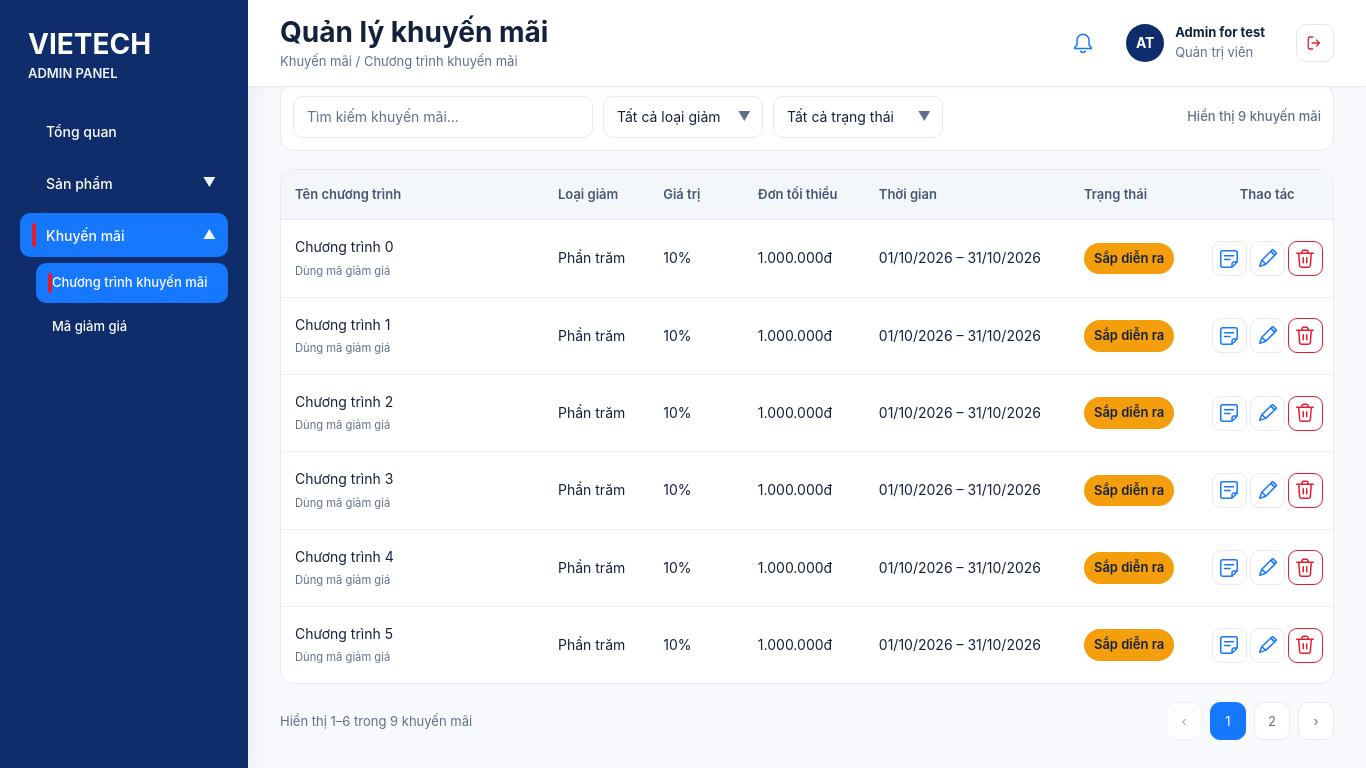
Test: pagination shows six records per page and search returns to first page
The image size is (1366, 768).
(page scrolled)
Expected: the text "Hiển thị 9 khuyến mãi" is shown, 1187,107 -> 1321,127
Click the button named "Trang sau" at [1316, 721], box 1298,702 -> 1334,740
(page scrolled)
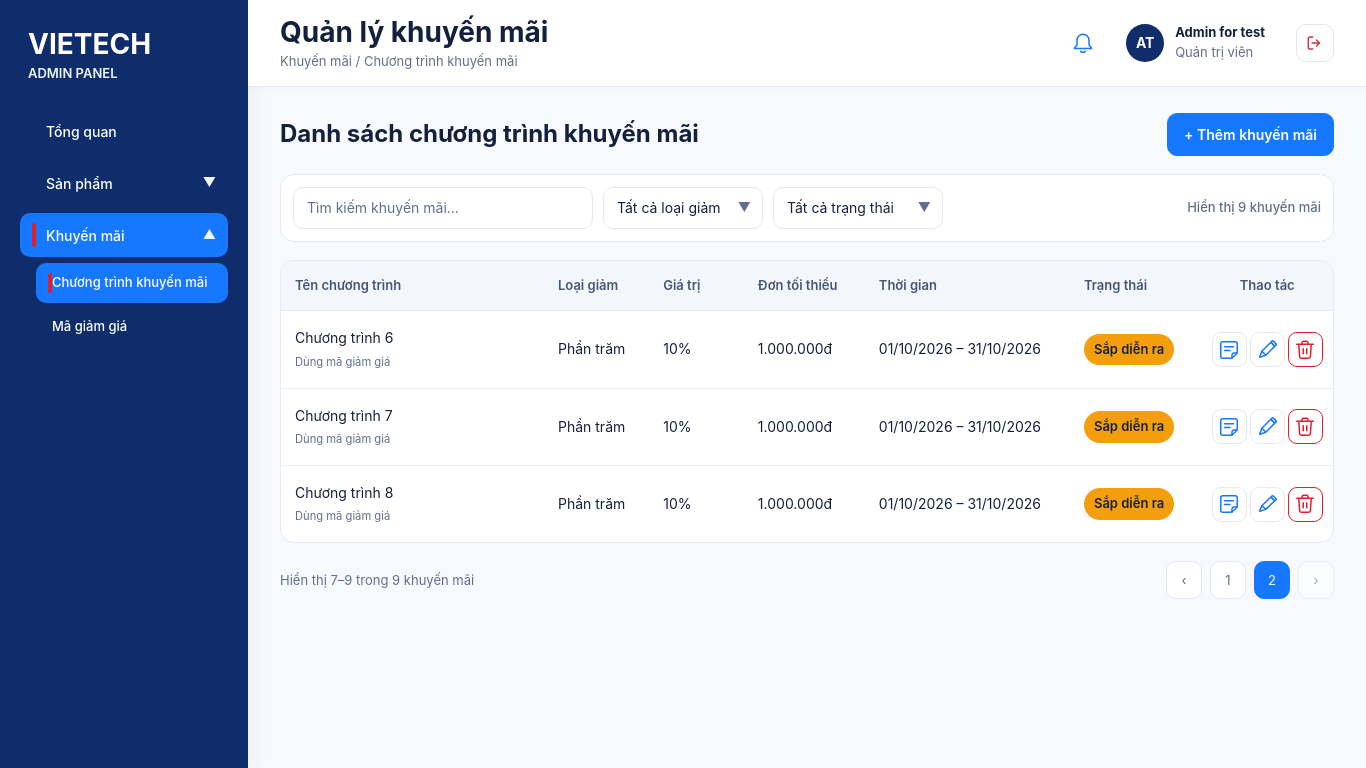
Now the text "Chương trình 6" is shown, box 295,329 -> 393,346
Type "Chương trình 8" into the search field at [443, 208], box 293,187 -> 593,229
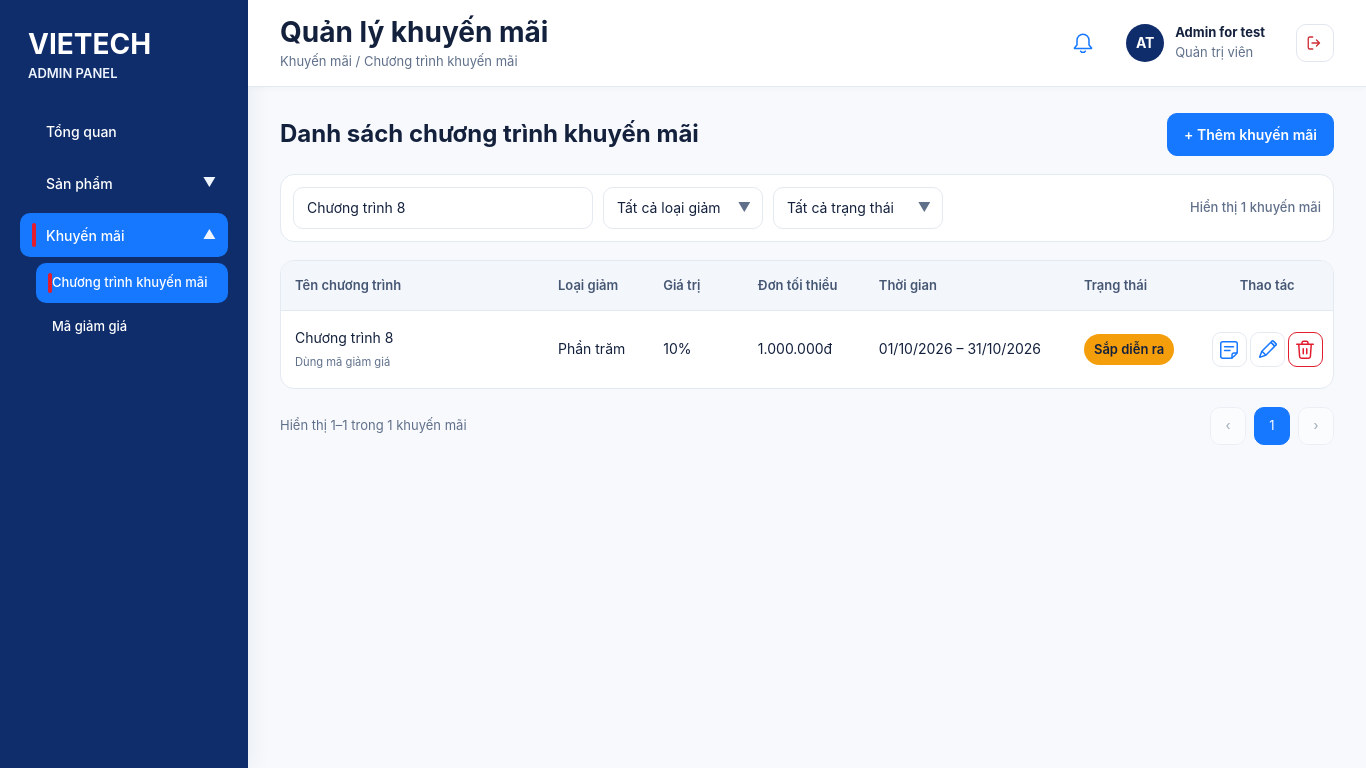
Now the text "Chương trình 8" is shown, box 295,329 -> 393,346
Now the text "Hiển thị 1–1 trong 1 khuyến mãi" is shown, box 280,416 -> 467,436
